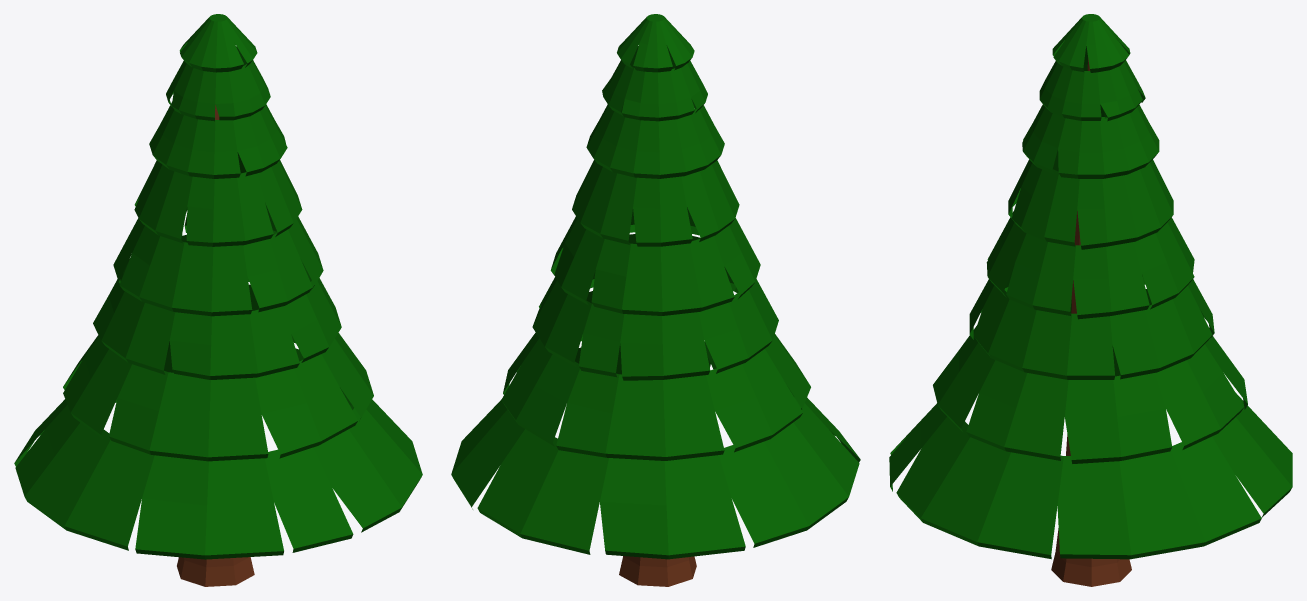
The model's file is Tree2.fbx.
3 views of the same model, side by side, from view 1: azimuth 30°, elevation 25°; view 2: azimuth 150°, elevation 25°; view 3: azimuth 270°, elevation 25° (orthographic).
Visible parts, largest first — view 1: Pine Tree 3; view 2: Pine Tree 3; view 3: Pine Tree 3.
Boxes of the visible parts, x1,y1,x2,y2 form: Pine Tree 3: (14,14,422,586); Pine Tree 3: (451,14,860,586); Pine Tree 3: (889,14,1292,586).
Bounding box in the file's own units: 995 × 1509 × 997.
